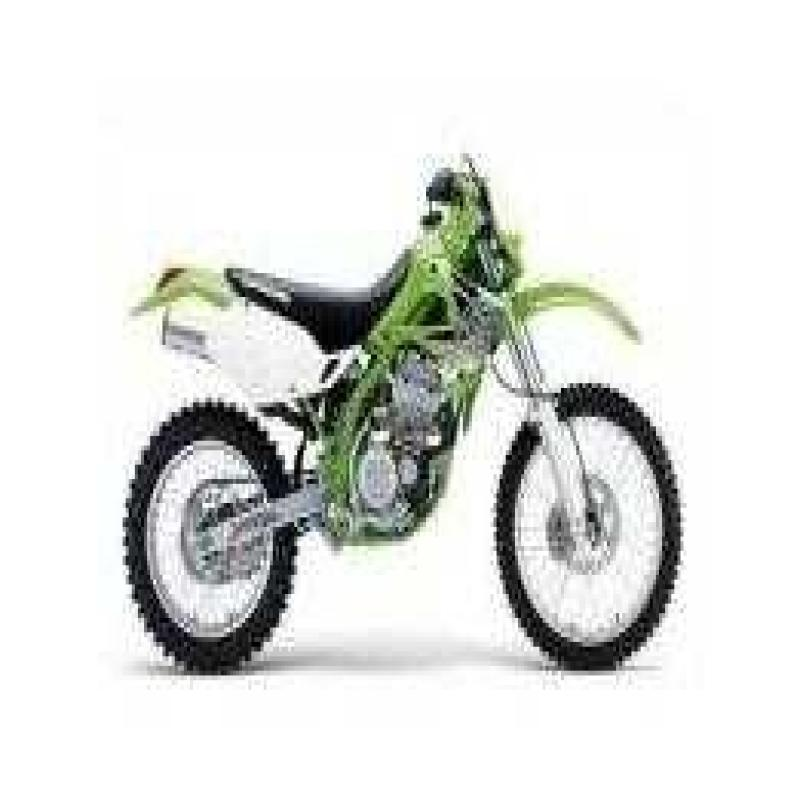bike: (113, 88, 709, 652)
